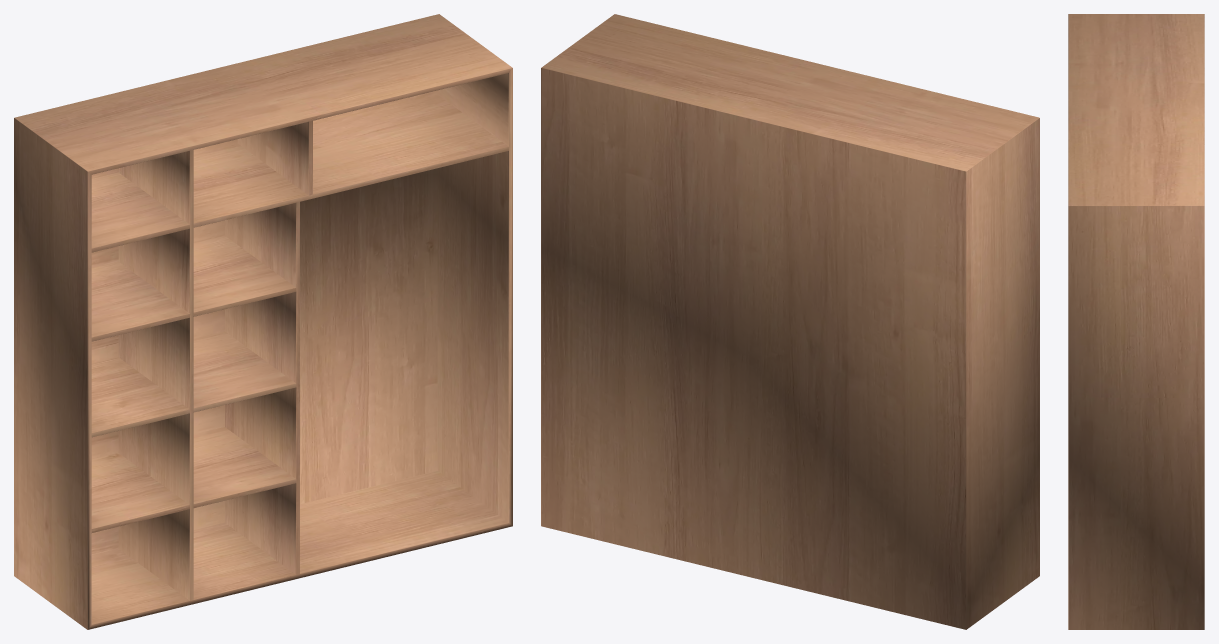
File: wardrobe_classic.glb
The picture shows the model from 3 angles, left to right: view 1: azimuth 30°, elevation 25°; view 2: azimuth 150°, elevation 25°; view 3: azimuth 270°, elevation 25°; orthographic projection. The views are drawn at different scales.
Parts seen in each view (by area): view 1: Wardrobe classic; view 2: Wardrobe classic; view 3: Wardrobe classic.
Part boxes in pixels (x1=…): Wardrobe classic: x1=14, y1=14, x2=512, y2=629; Wardrobe classic: x1=541, y1=14, x2=1039, y2=629; Wardrobe classic: x1=1068, y1=14, x2=1204, y2=629.
Size of the model in its own units: 2 by 2.06 by 0.5999.
2 materials, 2 textured.
